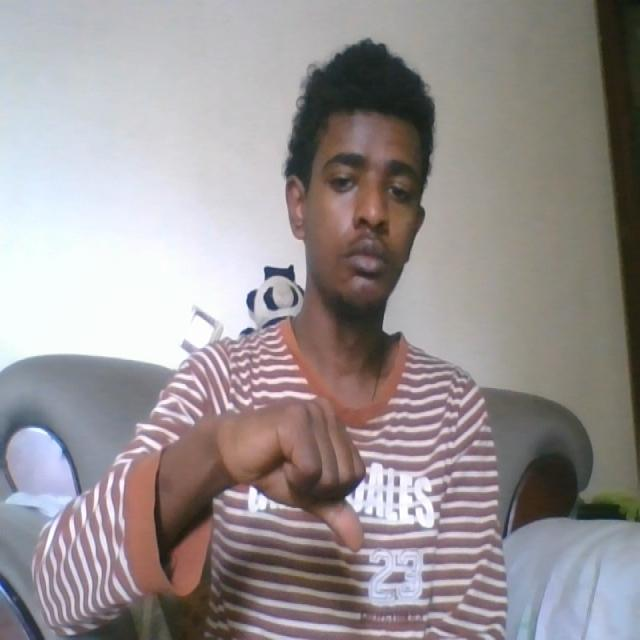injera: (216, 396, 371, 558)
